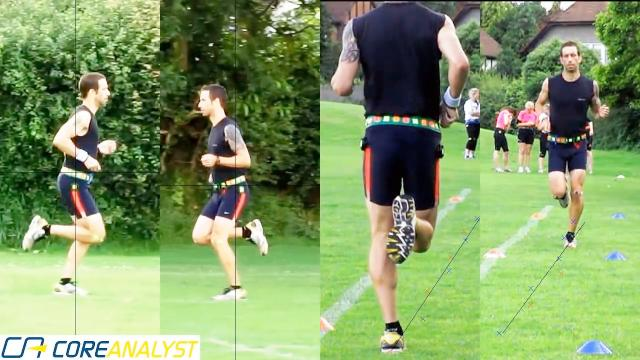berlari: (328, 2, 472, 360), (15, 69, 121, 308), (182, 76, 282, 310), (525, 31, 605, 263)
